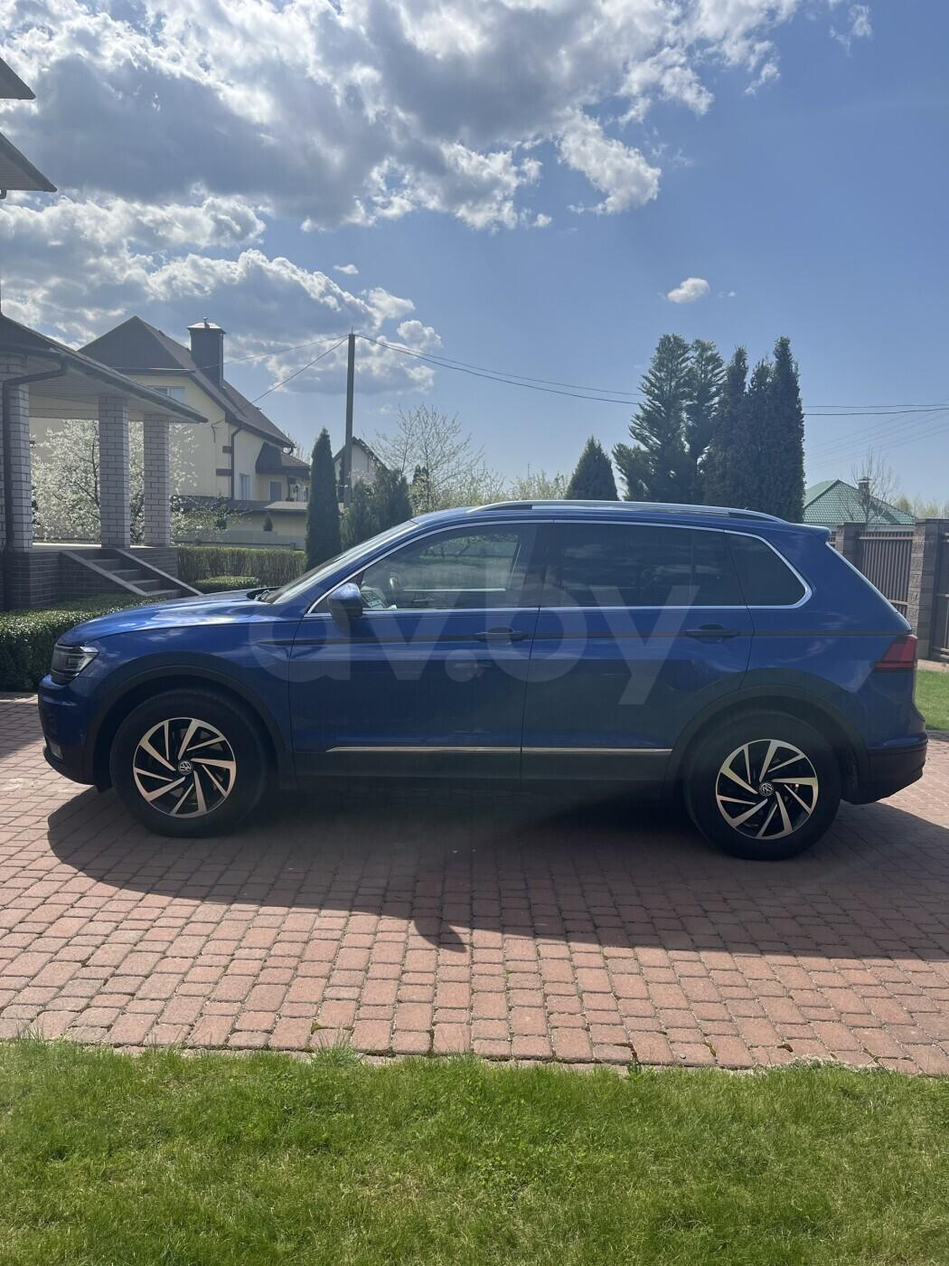Tiguan_2016-2021: (40, 494, 927, 854)
